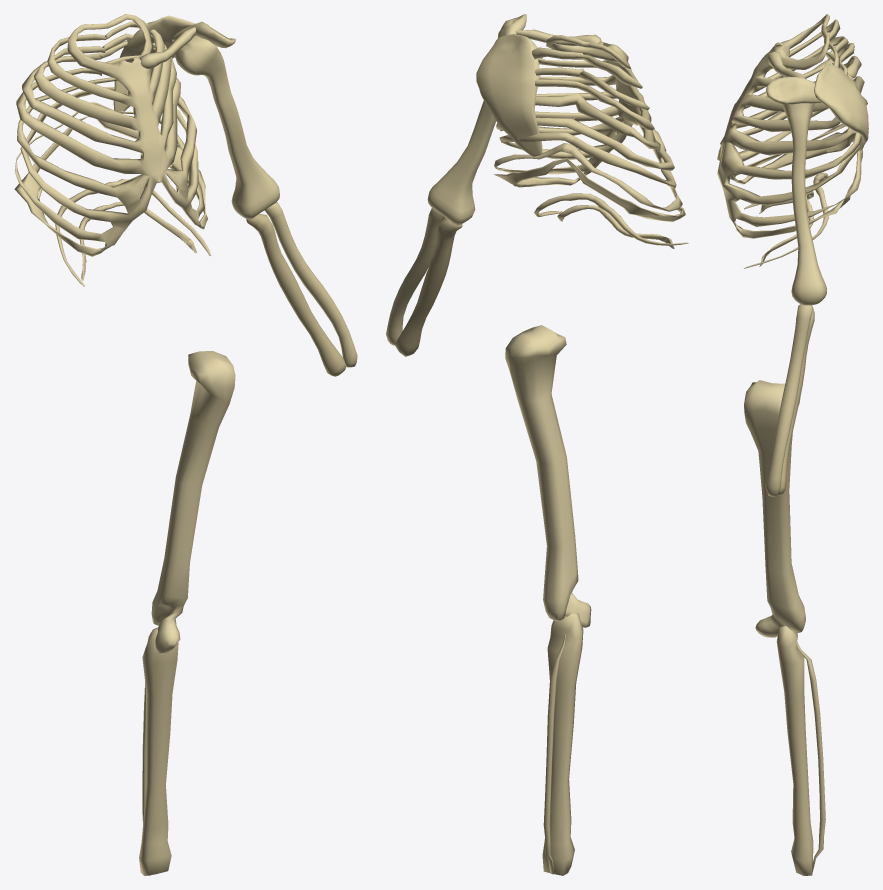
File: Bones.fbx
3 views of the same model, side by side, from view 1: azimuth 30°, elevation 25°; view 2: azimuth 150°, elevation 25°; view 3: azimuth 270°, elevation 25° (orthographic). The views are drawn at different scales.
Visible parts, largest first — view 1: Rib Cage, Femur, Tibia, Humerus, Ulna, Clavicle And Shoulder, Radius; view 2: Rib Cage, Femur, Tibia, Clavicle And Shoulder, Humerus, Ulna, Radius; view 3: Rib Cage, Femur, Tibia, Clavicle And Shoulder, Humerus, Radius, Ulna.
Part boxes in pixels (<box>): Rib Cage: <box>14,14,211,286</box>; Femur: <box>151,351,235,654</box>; Tibia: <box>139,627,178,875</box>; Humerus: <box>175,35,279,219</box>; Ulna: <box>246,213,346,376</box>; Clavicle And Shoulder: <box>113,15,235,113</box>; Radius: <box>264,202,357,367</box>; Rib Cage: <box>494,35,688,248</box>; Femur: <box>505,325,591,627</box>; Tibia: <box>542,613,583,875</box>; Clavicle And Shoulder: <box>476,14,601,156</box>; Humerus: <box>427,39,542,225</box>; Ulna: <box>395,218,462,356</box>; Radius: <box>386,208,444,345</box>; Rib Cage: <box>717,14,867,268</box>; Femur: <box>744,380,805,637</box>; Tibia: <box>776,626,825,875</box>; Clavicle And Shoulder: <box>766,51,868,151</box>; Humerus: <box>782,103,826,305</box>; Radius: <box>766,304,812,496</box>; Ulna: <box>765,307,814,495</box>.
Bounding box in the file's own units: 455 × 1203 × 199.
